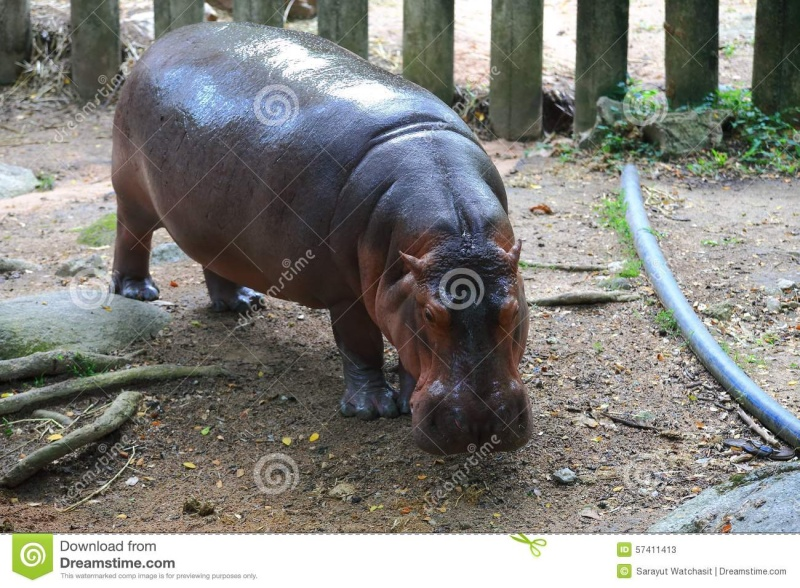hipopotamo: (98, 19, 545, 461)
